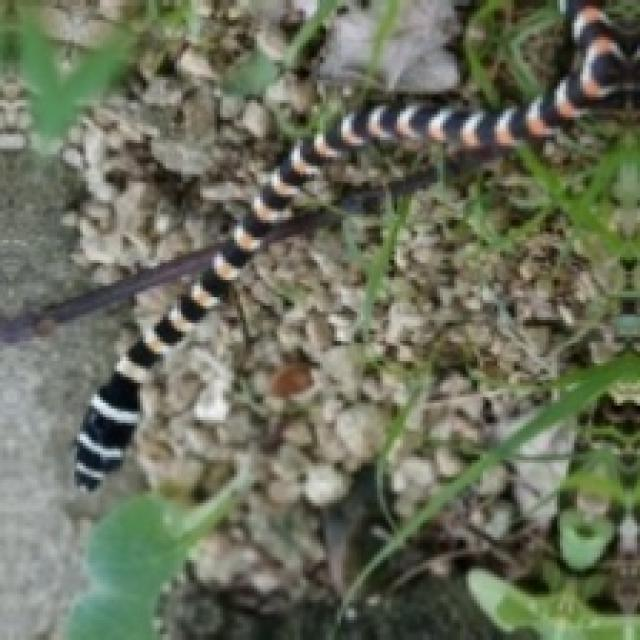paradise tree snake: (0, 0, 637, 594), (69, 0, 637, 514), (254, 166, 434, 266), (474, 429, 577, 531), (577, 429, 597, 451)
